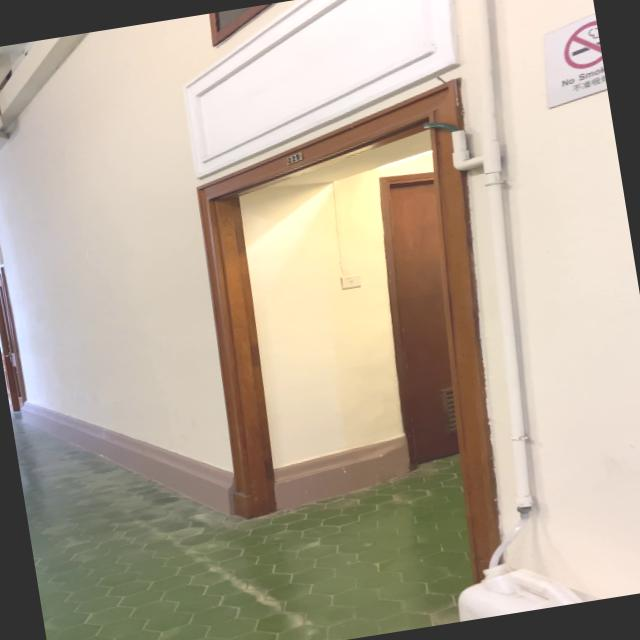room229: (284, 151, 305, 166)
